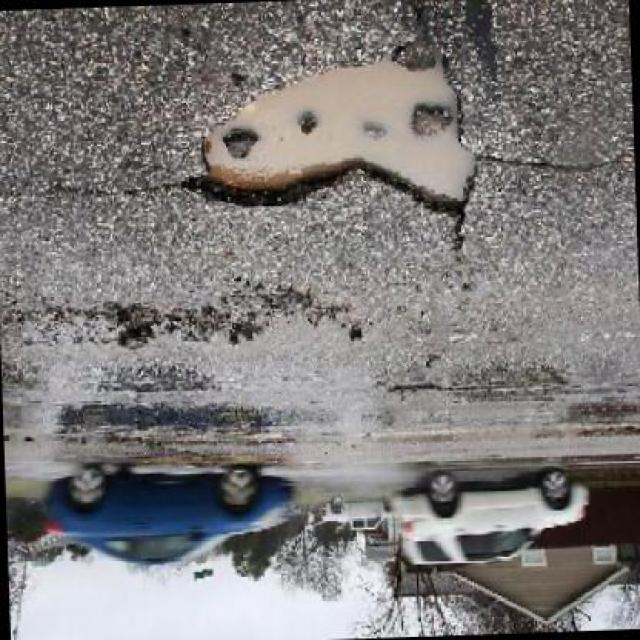pothole1: (183, 47, 485, 228), (61, 396, 268, 442), (574, 423, 638, 445)
